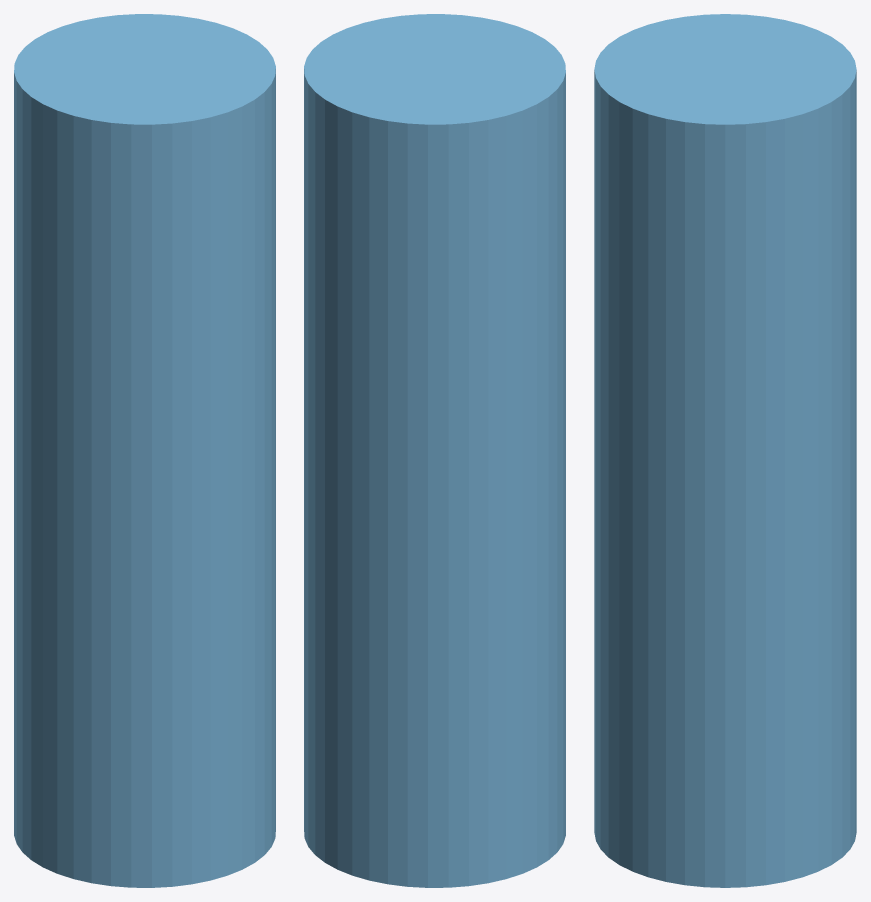
File: rec_pet_bottle_0036.glb
3 views of the same model, side by side, from view 1: azimuth 30°, elevation 25°; view 2: azimuth 150°, elevation 25°; view 3: azimuth 270°, elevation 25° (orthographic).
Parts seen in each view (by area): view 1: z-up-to-y-up; view 2: z-up-to-y-up; view 3: z-up-to-y-up.
Part boxes in pixels (<box>): z-up-to-y-up: <box>14,14,275,887</box>; z-up-to-y-up: <box>304,14,565,887</box>; z-up-to-y-up: <box>594,14,856,887</box>.
Size of the model in its own units: 0.0587 by 0.1885 by 0.0587.
